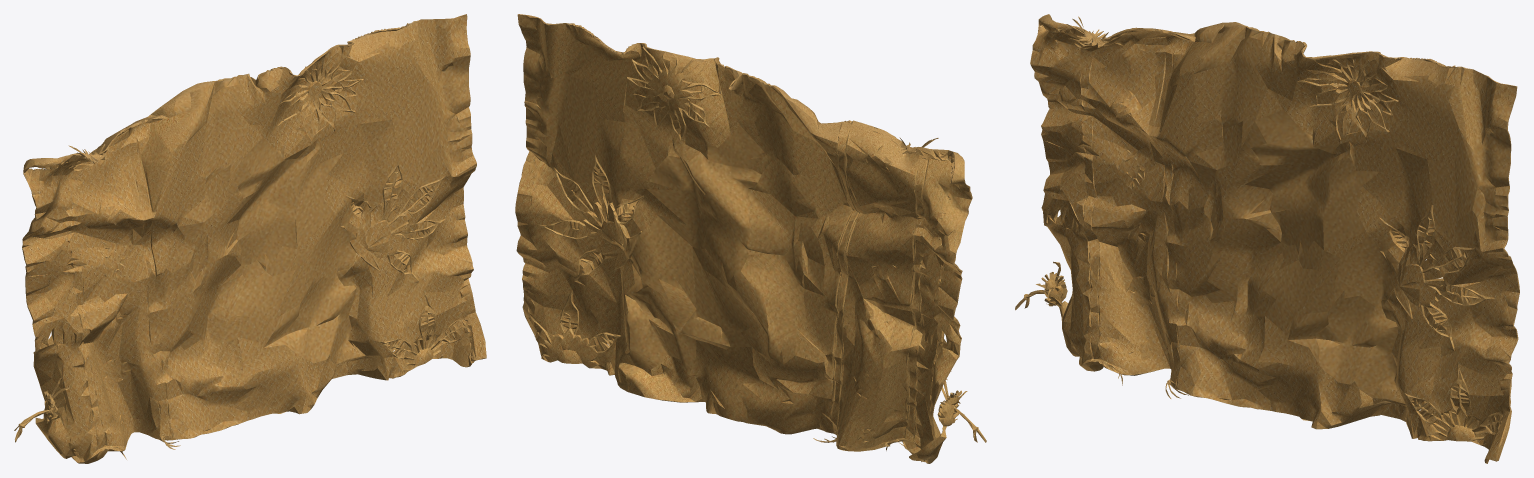
Rendered from ITM_PATTERN_FRAGMENT_001.glb.
The picture shows the model from 3 angles, left to right: view 1: azimuth 30°, elevation 25°; view 2: azimuth 150°, elevation 25°; view 3: azimuth 330°, elevation 25°; orthographic projection. The views are drawn at different scales.
Size of the model in its own units: 1.9 by 1.41 by 0.2269.
Materials: 1 (1 with a texture image).
